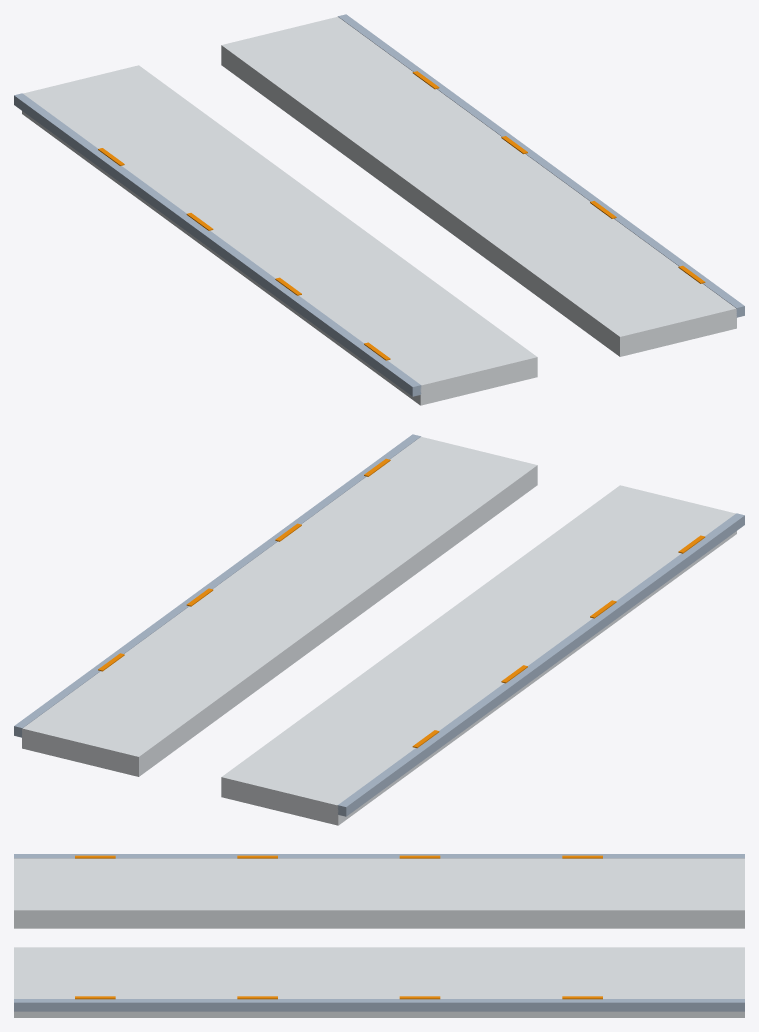
The model's file is TRK_split__v001__model.fbx.
The picture shows the model from 3 angles, top to bottom: view 1: azimuth 30°, elevation 25°; view 2: azimuth 150°, elevation 25°; view 3: azimuth 270°, elevation 25°; orthographic projection. The views are drawn at different scales.
Visible parts, largest first — view 1: TRK_split_Mesh; view 2: TRK_split_Mesh; view 3: TRK_split_Mesh.
Boxes of the visible parts, bbox=[...] form: TRK_split_Mesh: bbox=[14, 14, 744, 405]; TRK_split_Mesh: bbox=[14, 434, 744, 825]; TRK_split_Mesh: bbox=[14, 854, 744, 1017].
Size of the model in its own units: 8.66 by 0.5475 by 18.
Materials: 1 (1 with a texture image).
